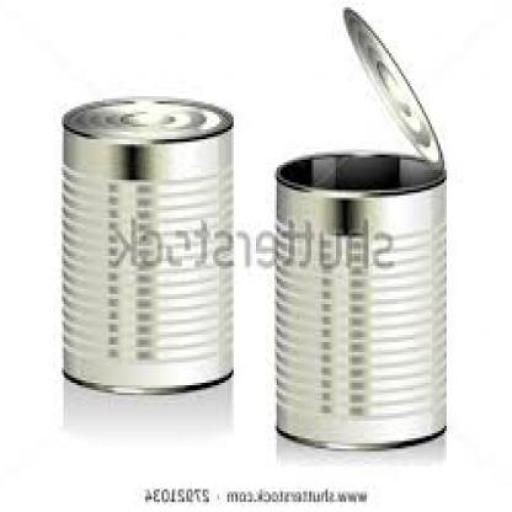metal: (64, 94, 238, 395), (278, 150, 448, 446), (346, 5, 447, 167)
